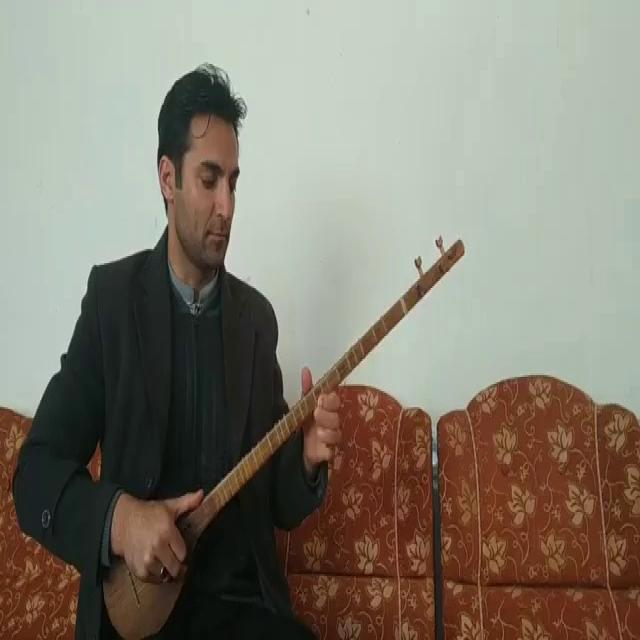Setar: (94, 207, 477, 640)
